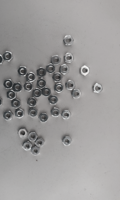nut: (3, 51, 13, 62), (4, 79, 14, 90), (18, 66, 28, 77), (80, 65, 90, 76), (93, 83, 103, 94), (72, 89, 82, 100), (66, 80, 76, 91), (54, 83, 64, 94), (37, 67, 47, 78), (26, 72, 37, 82), (24, 81, 34, 92), (7, 90, 17, 101), (3, 111, 14, 121), (18, 128, 28, 139), (64, 36, 74, 46), (64, 53, 74, 63), (52, 55, 62, 65), (53, 73, 63, 83), (60, 65, 70, 75), (13, 83, 23, 93), (35, 138, 45, 148), (31, 147, 41, 157), (22, 142, 32, 152), (28, 133, 38, 143), (61, 110, 71, 120), (39, 113, 49, 123), (51, 108, 61, 118), (49, 95, 59, 105), (28, 108, 38, 118), (12, 99, 22, 109), (27, 98, 37, 108), (33, 89, 43, 99), (37, 78, 47, 88), (41, 87, 51, 97), (63, 137, 72, 147), (15, 109, 24, 119), (48, 65, 55, 74), (0, 55, 4, 65), (0, 97, 2, 107)
